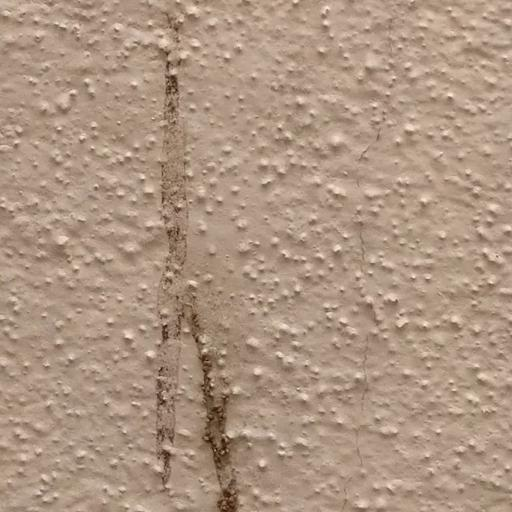stain: (131, 0, 259, 512)
